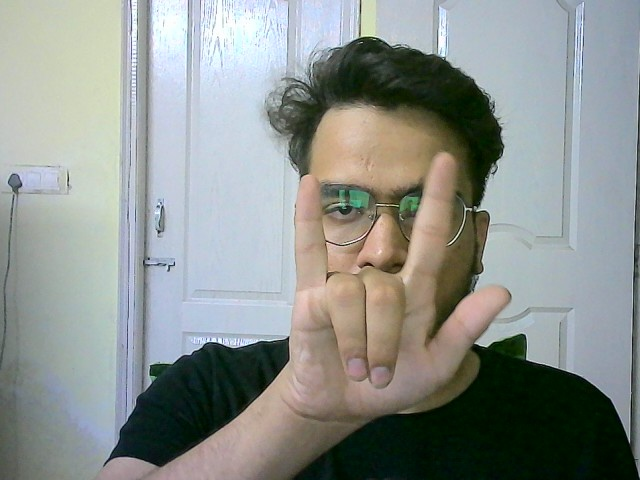I Love You: (288, 149, 516, 424)
